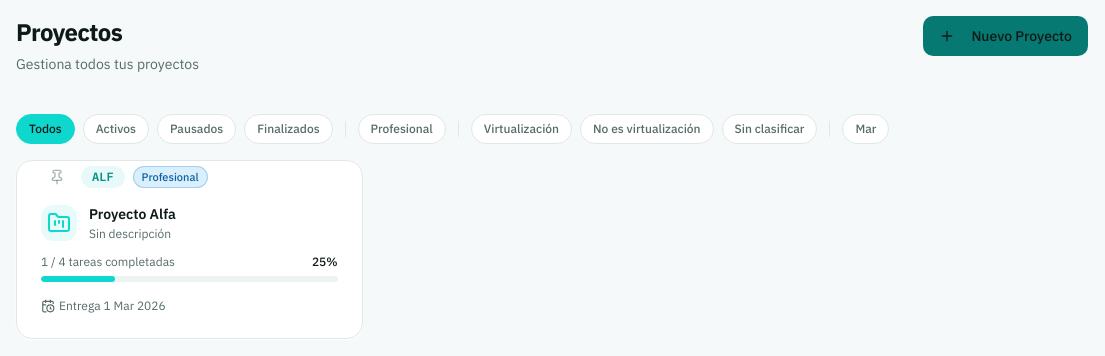
Test: Proyectos: cuatro estados distintos › sin resultados por filtros: mensaje propio y «Limpiar filtros» restablece la lista
Expected: the link "Proyecto Alfa" is shown, [89,205,176,224]
# un filtro de estado que no coincide con ningún proyecto
Click the button "Pausados".
click(197, 129)  # box [157,114,236,144]
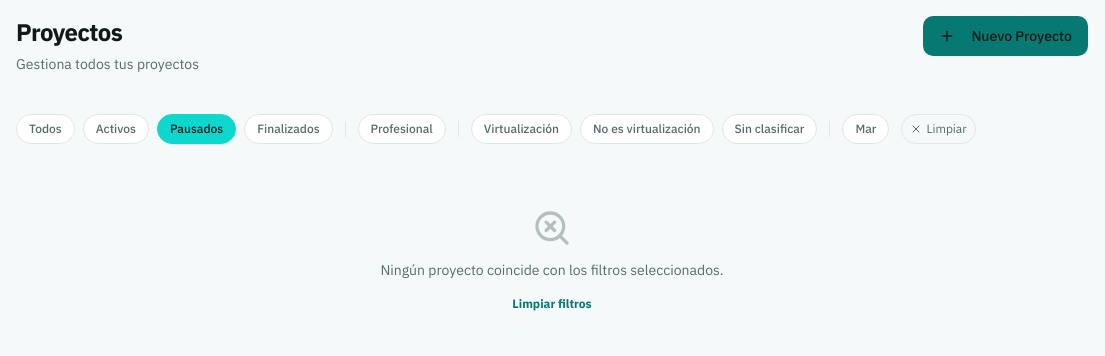
Expected: the text "Ningún proyecto coincide con los filtros seleccionados." is shown, [380,260,724,280]
Click the button "Limpiar filtros".
click(552, 304)  # box [512,296,592,312]
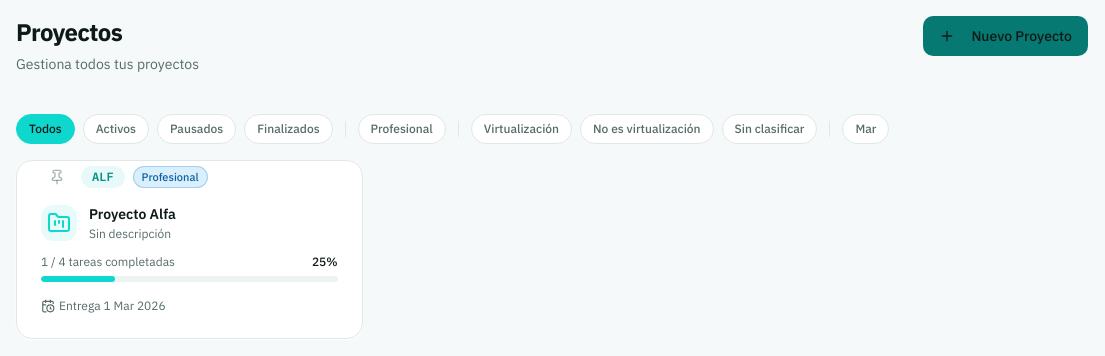
Expected: the link "Proyecto Alfa" is shown, [89,205,176,224]
